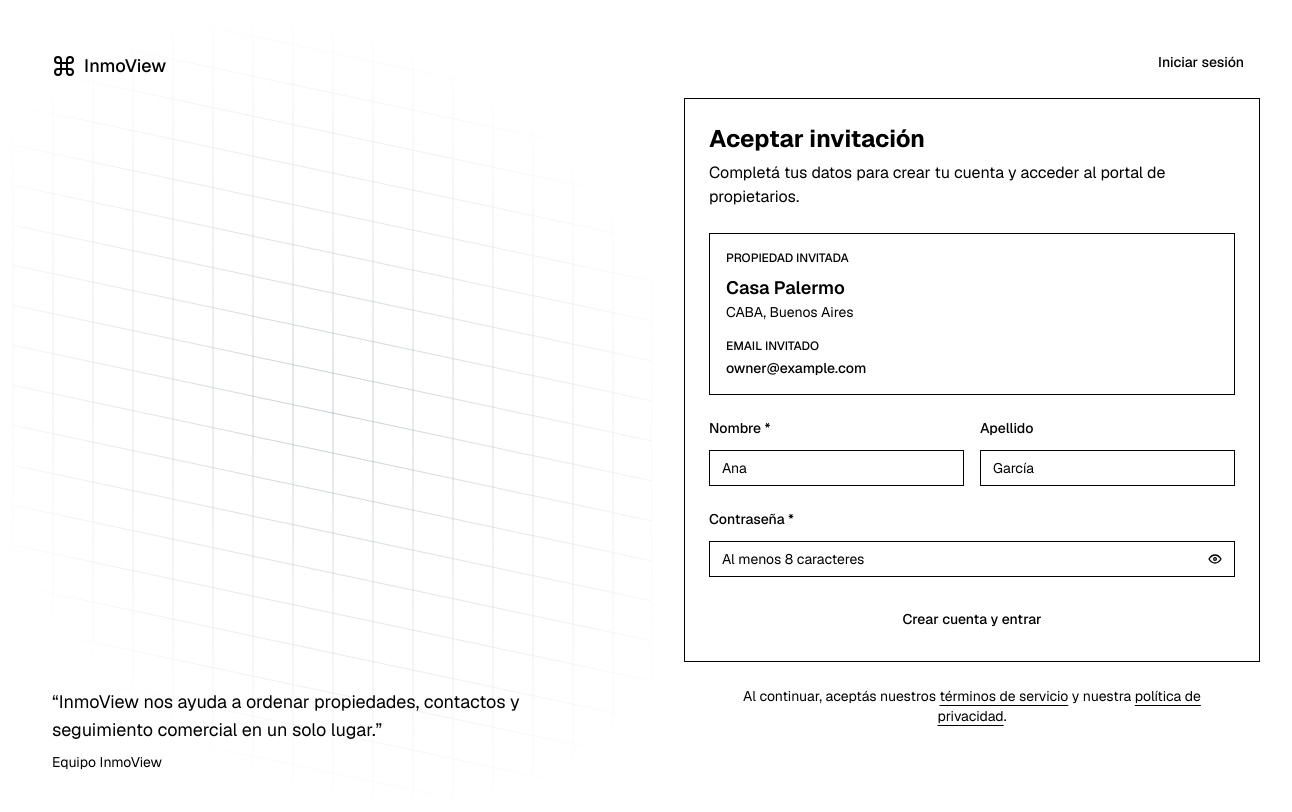
OwnerInvitationAcceptanceView › prevents submitting with a weak password
The image size is (1292, 812).
Step 1. Type "short" into the password field labelled "Contraseña *" → (972, 559), box [709,541,1235,577]
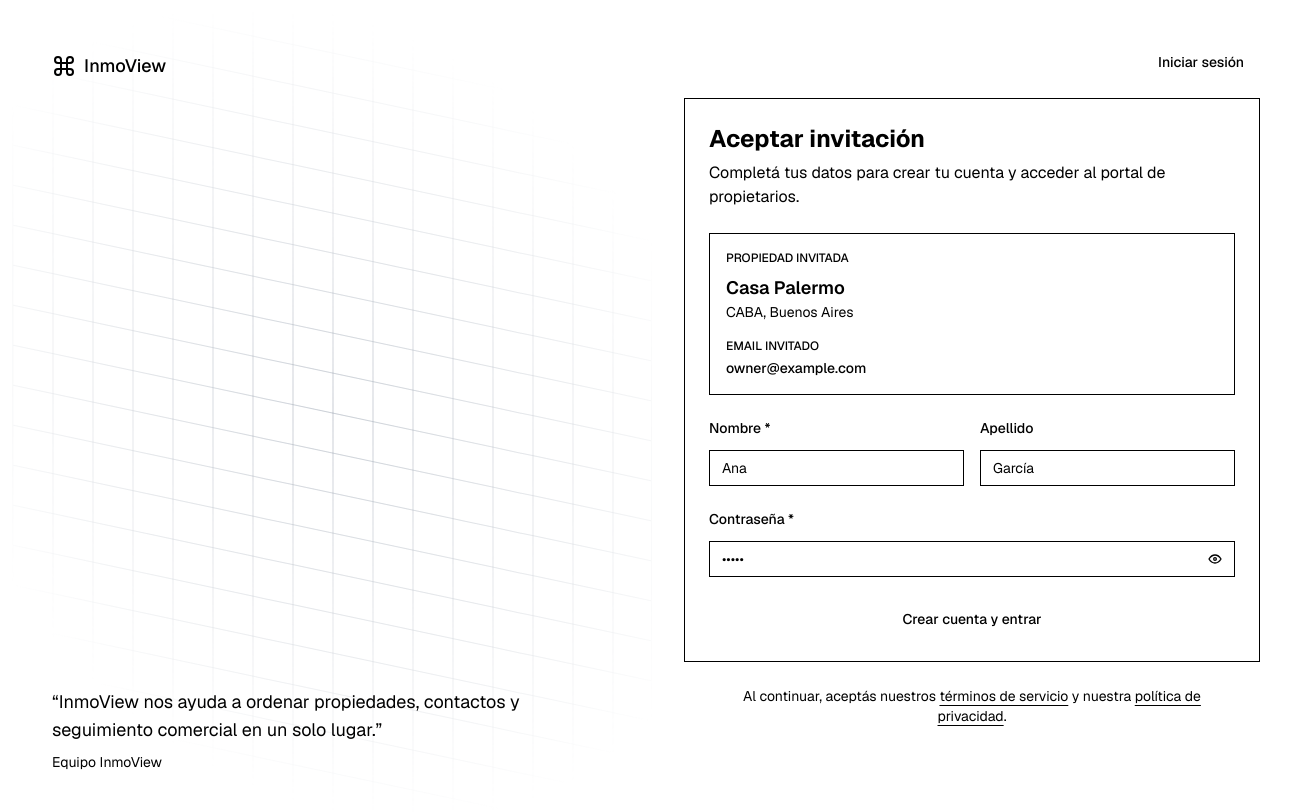
Step 2. Click the button "Crear cuenta y entrar" → (972, 619), box [709,601,1235,637]
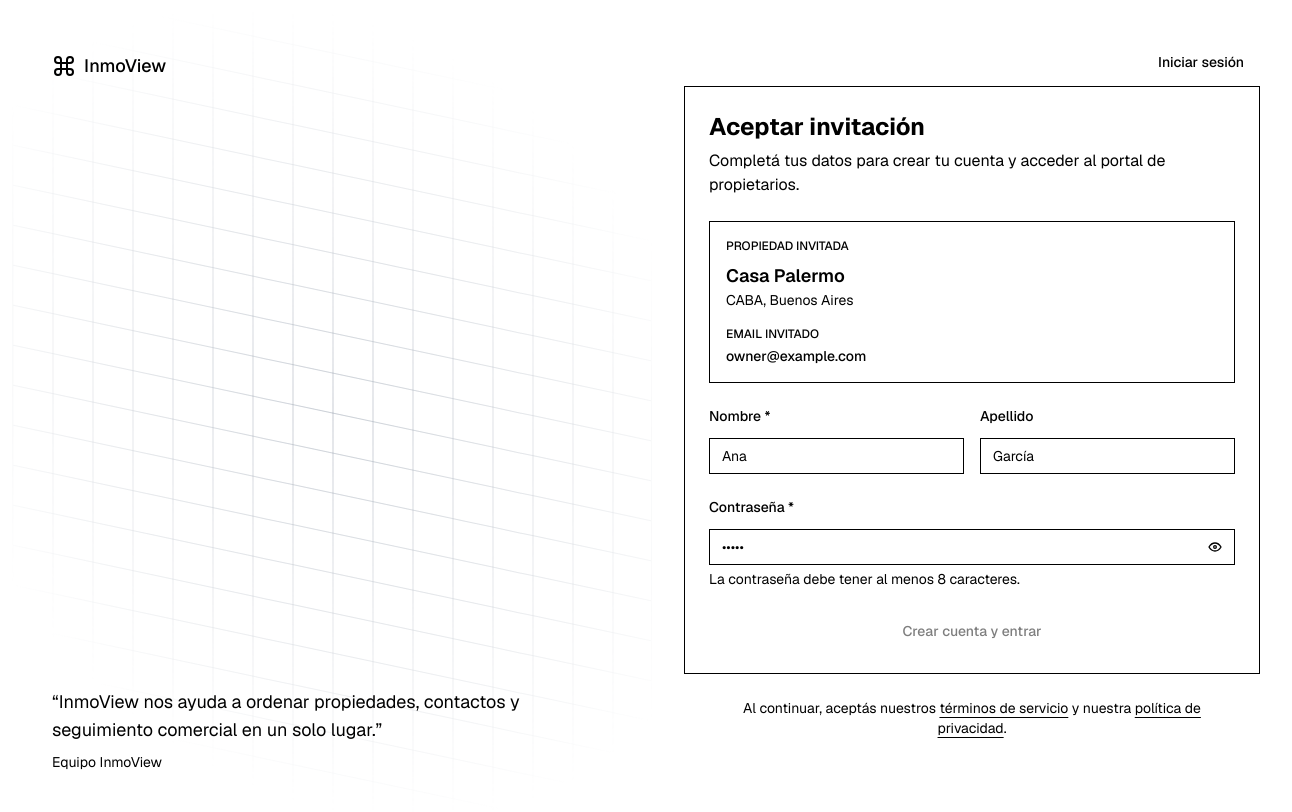
expect the text "La contraseña debe tener al menos 8 caracteres." is shown: met, box [709,570,1020,588]
